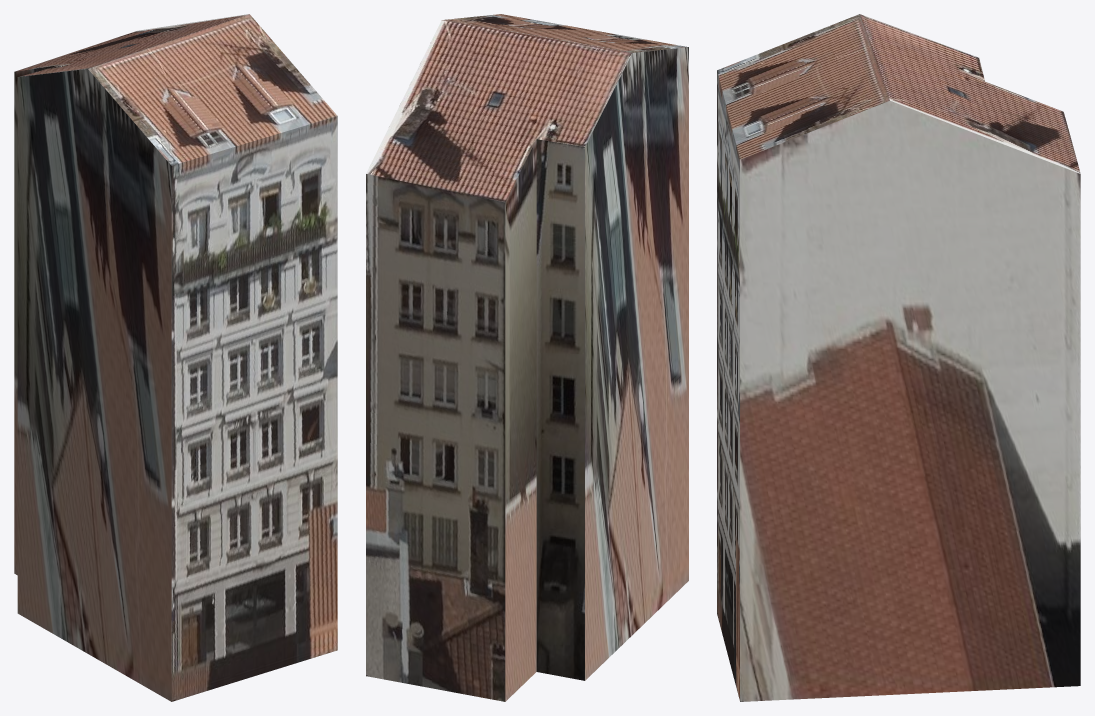
The picture shows the model from 3 angles, left to right: view 1: azimuth 30°, elevation 25°; view 2: azimuth 150°, elevation 25°; view 3: azimuth 270°, elevation 25°; orthographic projection.
Parts seen in each view (by area): view 1: Z_UP; view 2: Z_UP; view 3: Z_UP.
Part boxes in pixels (x1,y1,x2,y2): Z_UP: [14, 14, 337, 701]; Z_UP: [366, 14, 688, 701]; Z_UP: [717, 14, 1080, 701].
Bounding box in the file's own units: 9.34 × 25.86 × 14.34.
Materials: 2 (1 with a texture image).
